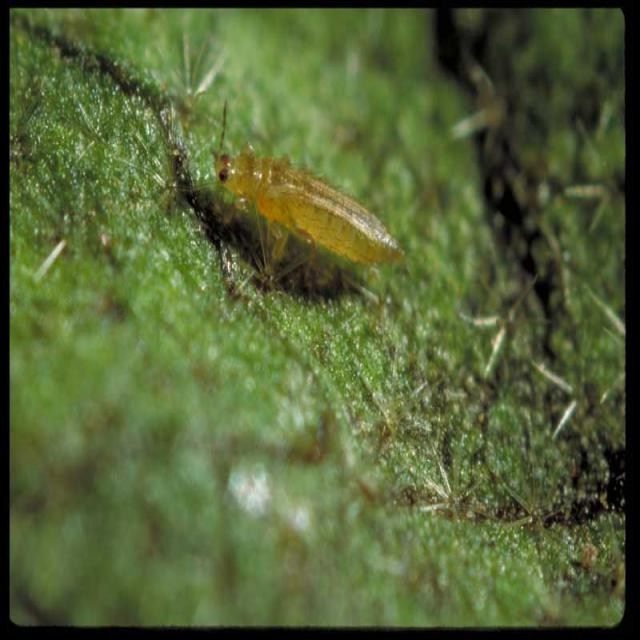Thrip-Larva-: (207, 112, 410, 280)
